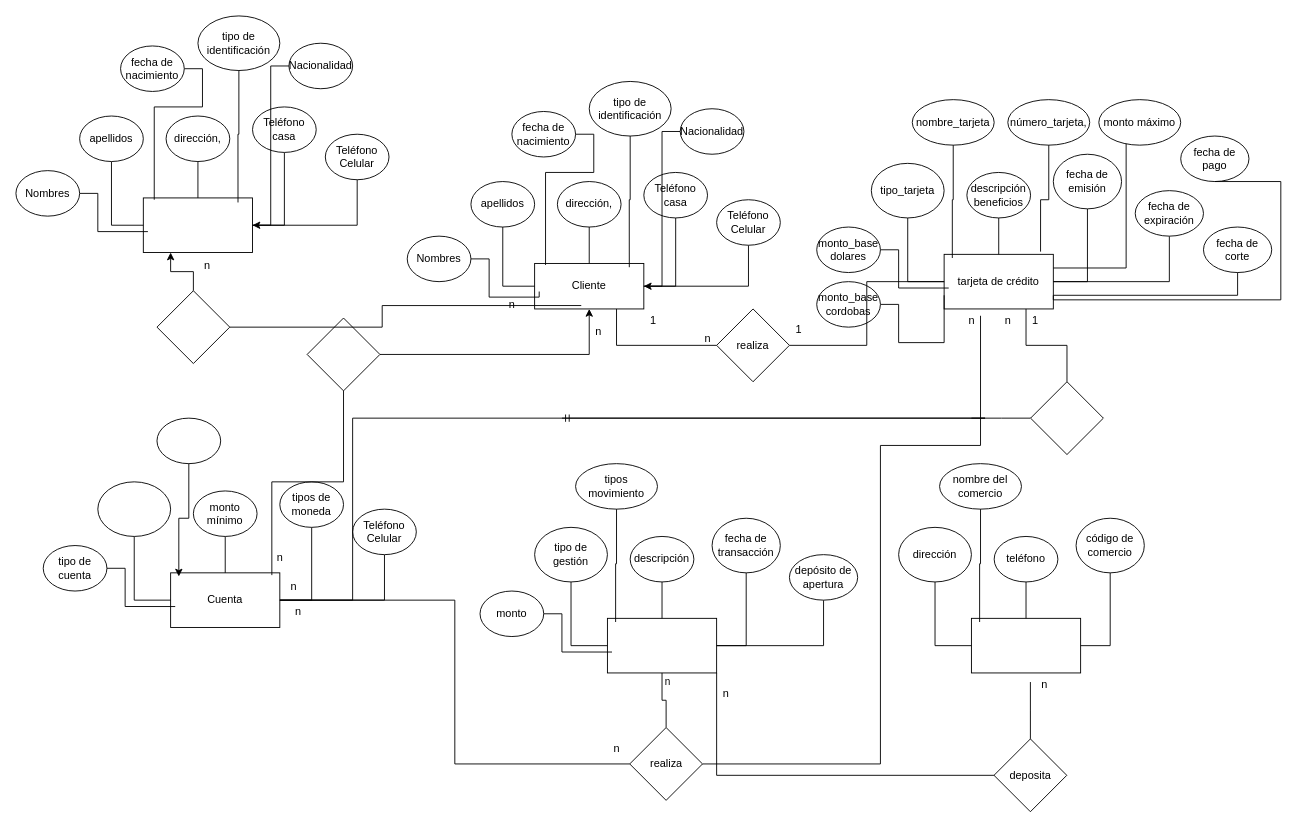
Some shapes in this 1298 by 828 pixel diagram are drawn without their labels. Here are the shapes that lost their labels. From the top down, the centre of each, then its label:
At point (197, 225): "Persona_referencia".
At point (193, 327): "necesita".
At point (343, 354): "apertura".
At point (1066, 418): "tiene".
At point (188, 440): "fecha de apertura".
At point (134, 508): "Descripción de Beneficios".
At point (662, 645): "movimiento_cuenta".
At point (1026, 645): "comercio".
